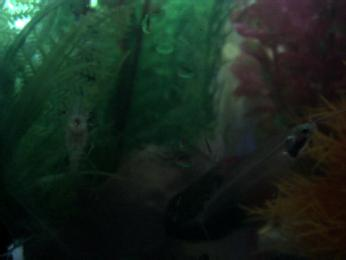glassfish: (186, 118, 320, 223)
siberian prawn: (58, 94, 95, 196)
